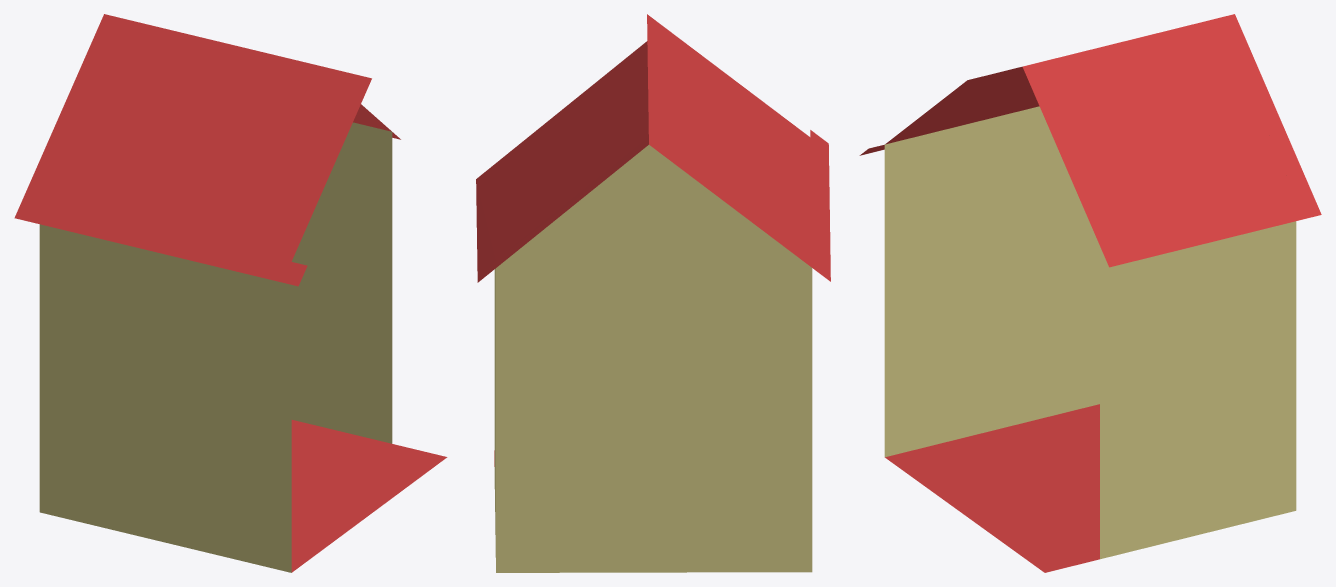
The picture shows the model from 3 angles, left to right: view 1: azimuth 30°, elevation 25°; view 2: azimuth 150°, elevation 25°; view 3: azimuth 270°, elevation 25°; orthographic projection.
Size of the model in its own units: 12 by 12.43 by 12.96.
